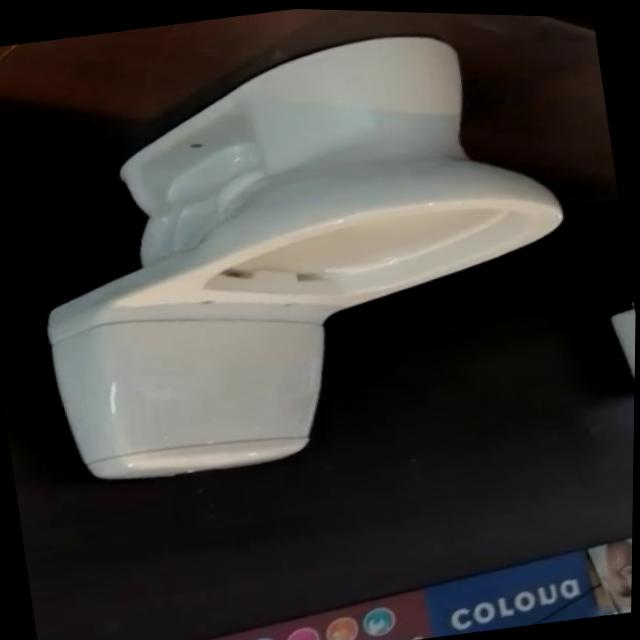toilet: (5, 3, 598, 503)
